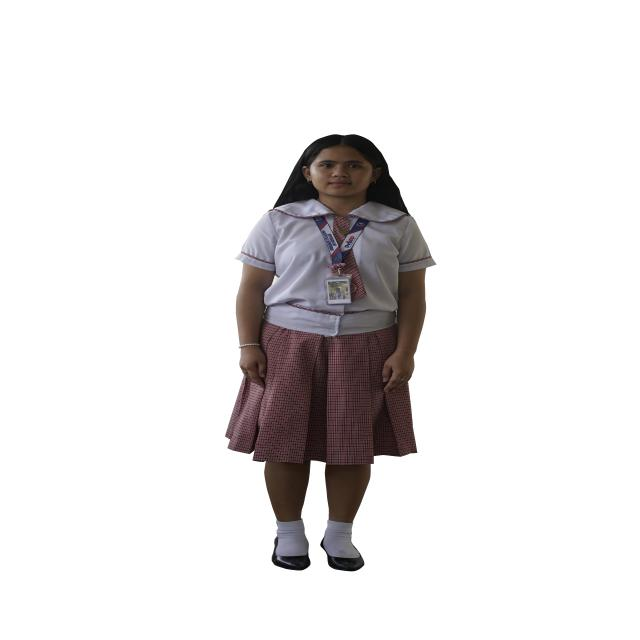id lace: (313, 215, 368, 268)
pologirl: (236, 199, 435, 337), (343, 252, 366, 300), (333, 216, 351, 244)
shoes: (272, 538, 311, 571), (327, 553, 364, 571), (320, 538, 326, 552)
skirt: (226, 320, 416, 465)
